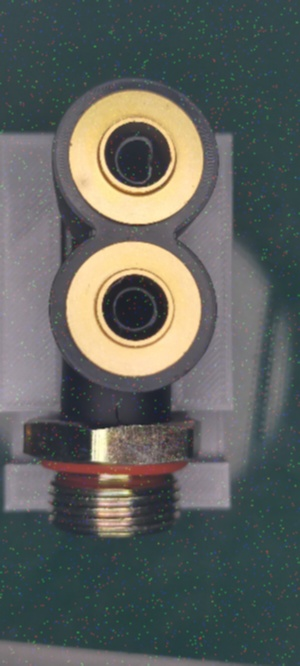craze: (112, 402, 126, 428)
off-centered: (106, 131, 169, 189)
